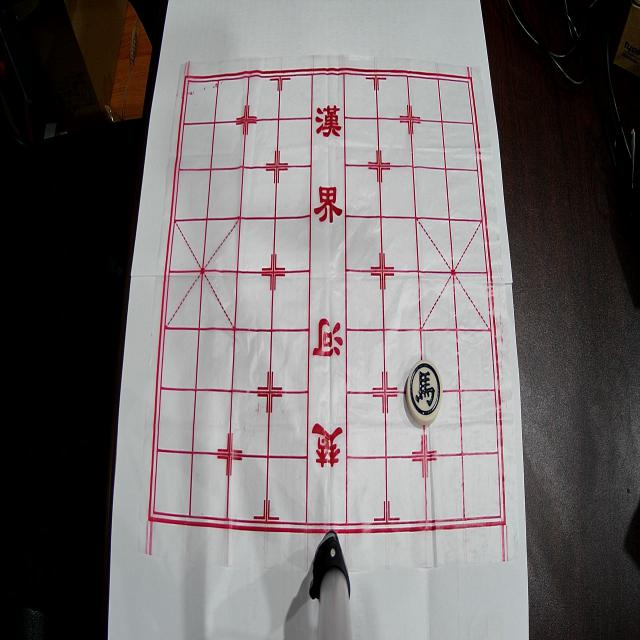black-horse: (406, 359, 443, 425)
